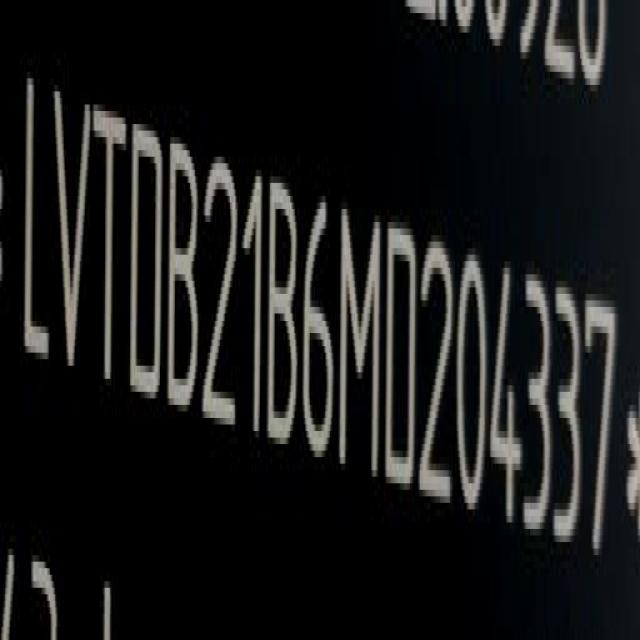0: (456, 232, 488, 520)
1: (242, 152, 264, 455)
2: (203, 135, 240, 450), (419, 227, 454, 513)
3: (552, 261, 582, 544), (521, 254, 551, 530)
4: (489, 237, 523, 527)
6: (301, 167, 336, 469)
7: (581, 269, 622, 561)
B: (167, 116, 200, 428), (268, 162, 300, 467)
D: (129, 97, 165, 418), (386, 198, 417, 506)
L: (10, 41, 50, 380)
M: (338, 176, 382, 488)
T: (92, 75, 128, 404)
V: (52, 66, 92, 390)
